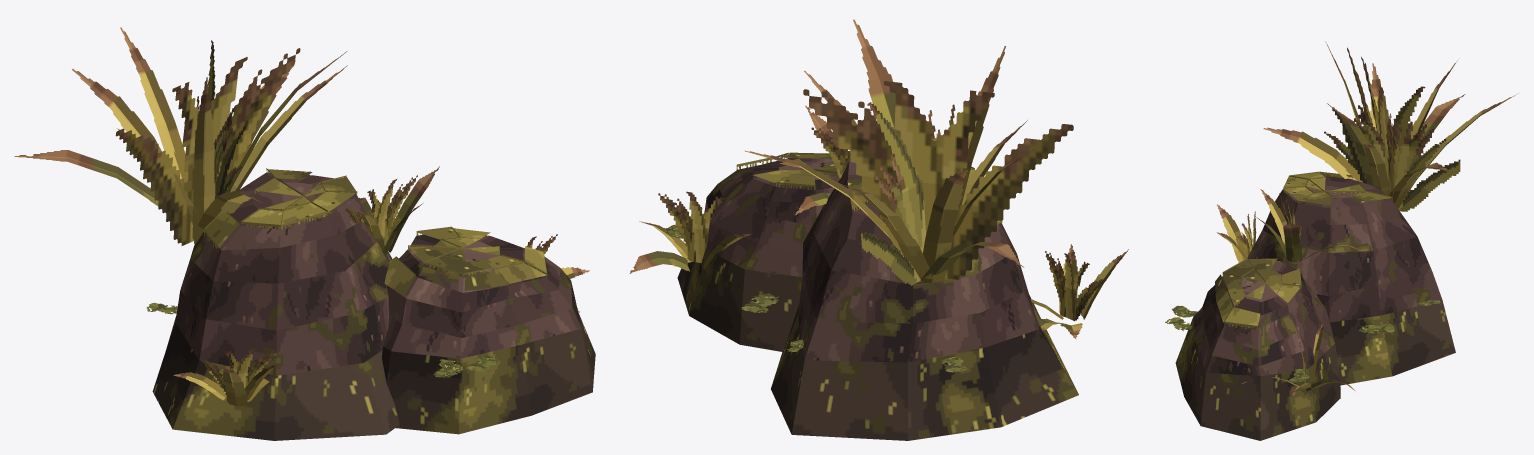
File: SM_SW01_HummockDouble.fbx
3 renders of one model, left to right at view 1: azimuth 30°, elevation 25°; view 2: azimuth 150°, elevation 25°; view 3: azimuth 270°, elevation 25°, orthographic. The views are drawn at different scales.
Parts seen in each view (by area): view 1: SW01c_Peat, SW01c_Mud, SW01c_Plants, SW01c_Moss; view 2: SW01c_Plants, SW01c_Peat, SW01c_Mud, SW01c_Moss; view 3: SW01c_Peat, SW01c_Plants, SW01c_Mud, SW01c_Moss.
Boxes of the visible parts, bbox=[...] form: SW01c_Peat: bbox=[175, 172, 581, 375]; SW01c_Mud: bbox=[152, 312, 595, 440]; SW01c_Plants: bbox=[14, 27, 589, 406]; SW01c_Moss: bbox=[205, 169, 546, 296]; SW01c_Plants: bbox=[629, 19, 1128, 372]; SW01c_Peat: bbox=[704, 158, 1039, 362]; SW01c_Mud: bbox=[677, 213, 1078, 440]; SW01c_Moss: bbox=[745, 154, 1000, 222]; SW01c_Peat: bbox=[1193, 176, 1442, 376]; SW01c_Plants: bbox=[1165, 41, 1518, 395]; SW01c_Mud: bbox=[1175, 300, 1455, 440]; SW01c_Moss: bbox=[1215, 172, 1392, 325].
Bounding box in the file's own units: 1.88 × 1.24 × 1.5.
